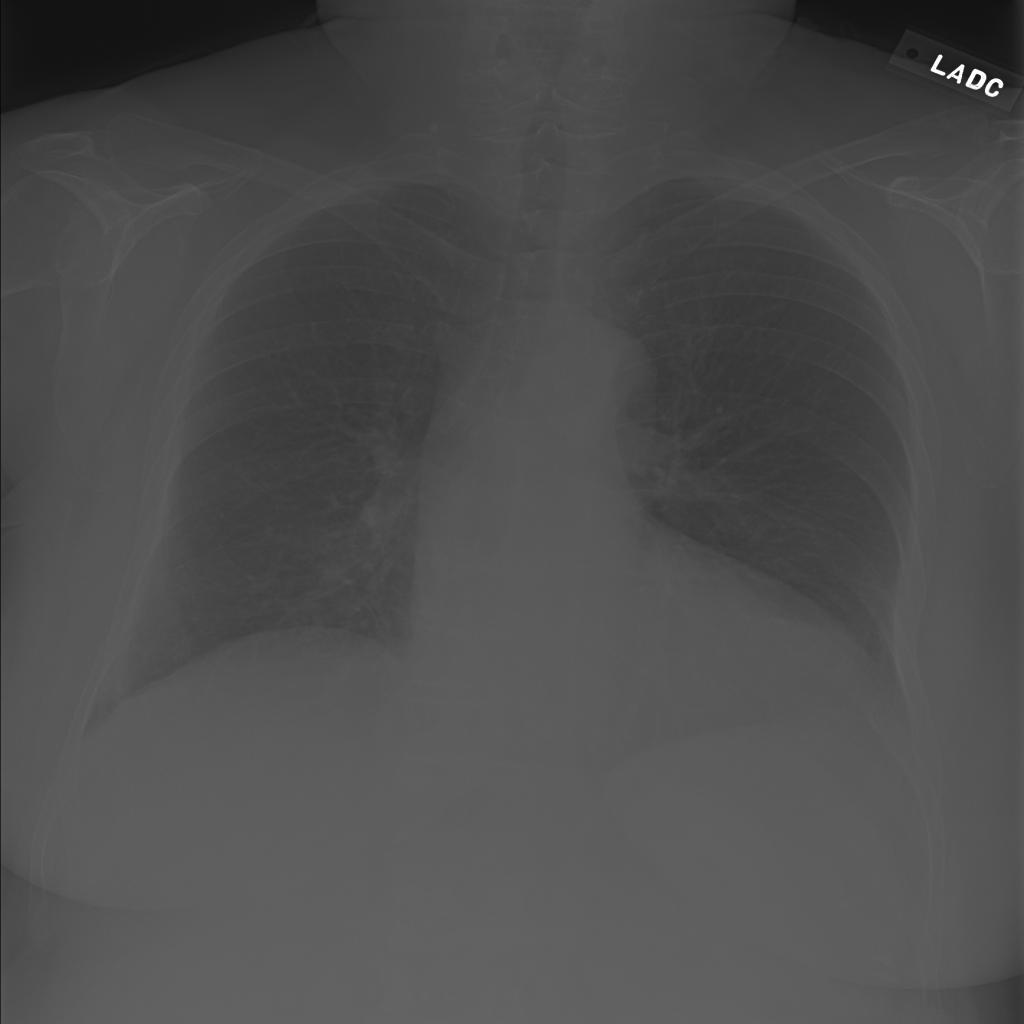Nodule: (85, 296, 130, 322), (188, 334, 212, 360)
